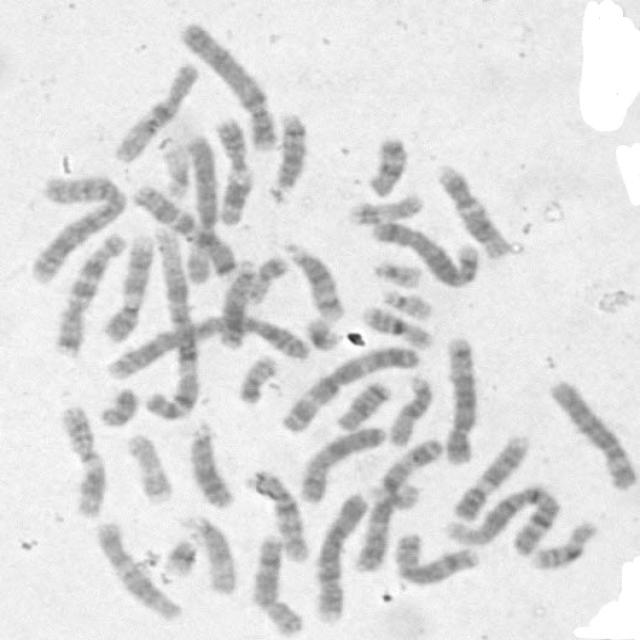A1: (139, 223, 202, 422), (440, 480, 562, 555)
A2: (100, 309, 314, 381), (22, 169, 128, 286)
A3: (349, 432, 448, 574), (276, 341, 422, 434)
B4: (175, 16, 284, 153), (309, 486, 373, 625)
B5: (366, 214, 482, 289), (440, 331, 480, 466)
C10: (108, 58, 202, 164), (244, 465, 313, 564)
C11: (54, 400, 108, 519), (209, 113, 255, 226)
C12: (91, 517, 186, 623), (431, 159, 515, 260)
C6: (544, 374, 638, 492), (180, 130, 220, 286)
C7: (130, 180, 242, 280), (49, 228, 130, 358)
C8: (248, 530, 306, 637), (390, 527, 482, 587)
C9: (447, 428, 531, 522), (98, 228, 157, 344)
D13: (182, 417, 238, 510), (213, 254, 260, 351)
D14: (279, 237, 348, 323), (266, 107, 310, 198)
D15: (179, 510, 239, 597), (383, 370, 435, 448)
E16: (526, 514, 602, 572), (359, 301, 436, 351)
E17: (122, 429, 175, 504), (343, 188, 426, 226)
E18: (329, 377, 394, 432), (361, 132, 411, 198)
F19: (154, 137, 194, 200), (360, 478, 421, 512)
F20: (232, 349, 280, 405), (243, 251, 290, 305)
G21: (156, 531, 200, 580), (300, 311, 344, 352)
G22: (377, 284, 437, 321), (368, 255, 425, 290)
X: (294, 422, 388, 504)
Y: (94, 382, 141, 428)
